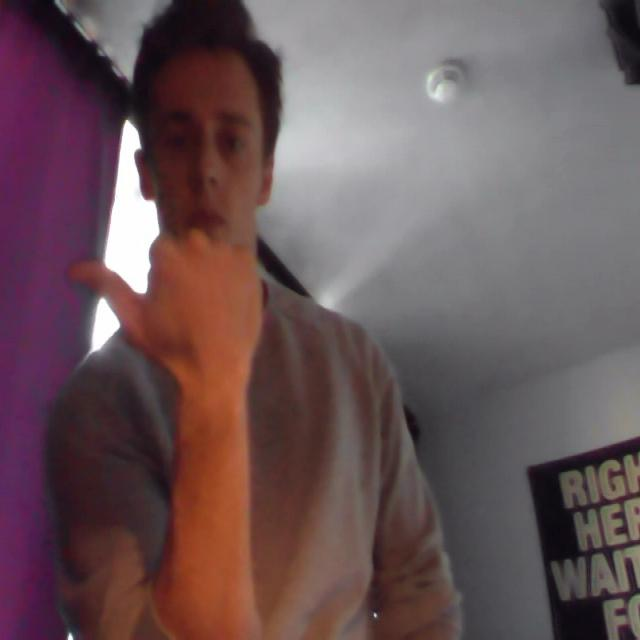left: (62, 210, 297, 406)
